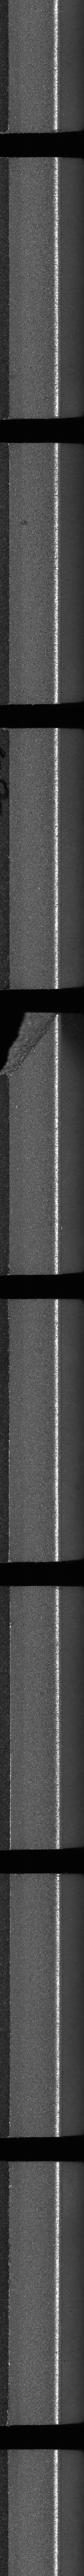Chip: (0, 1009, 63, 1084)
